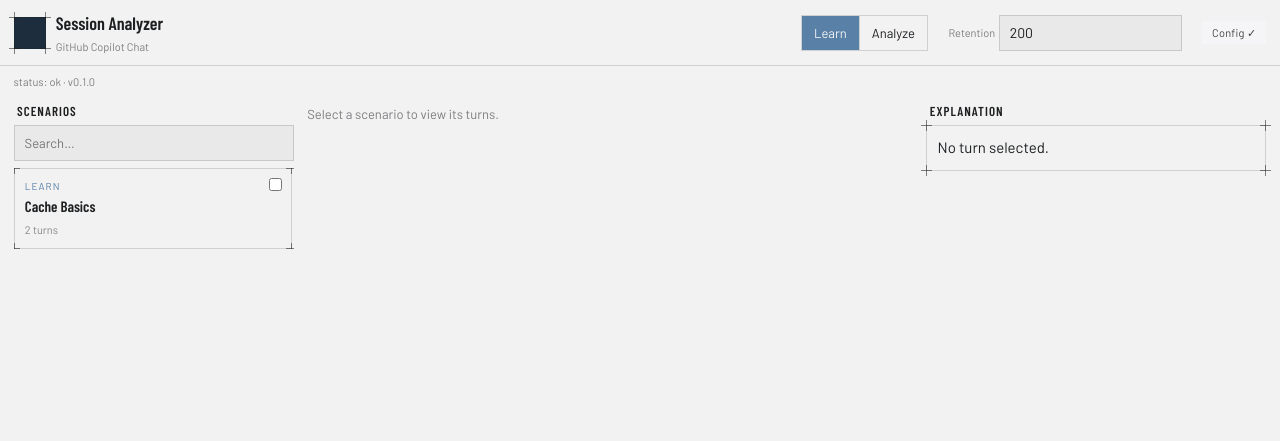
Test: App › clears the advice selection when switching modes
Click the checkbox named "Cache Basics" at coordinates (275, 184), box 269,178 -> 282,191
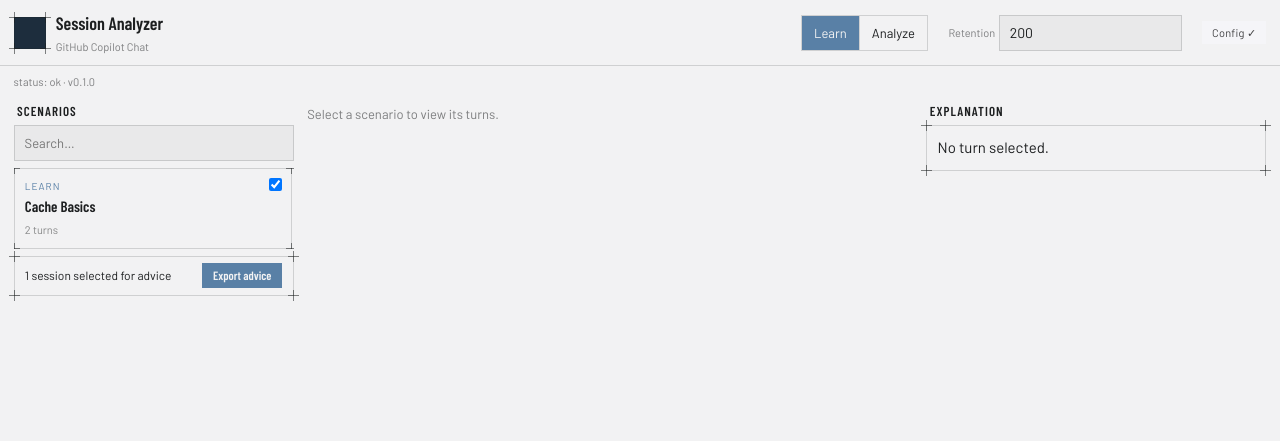
expect the text "1 session selected for advice" is shown: met, box 25,266 -> 172,285
Click the radio button labelled "Analyze" at coordinates (893, 33), box 859,16 -> 927,50
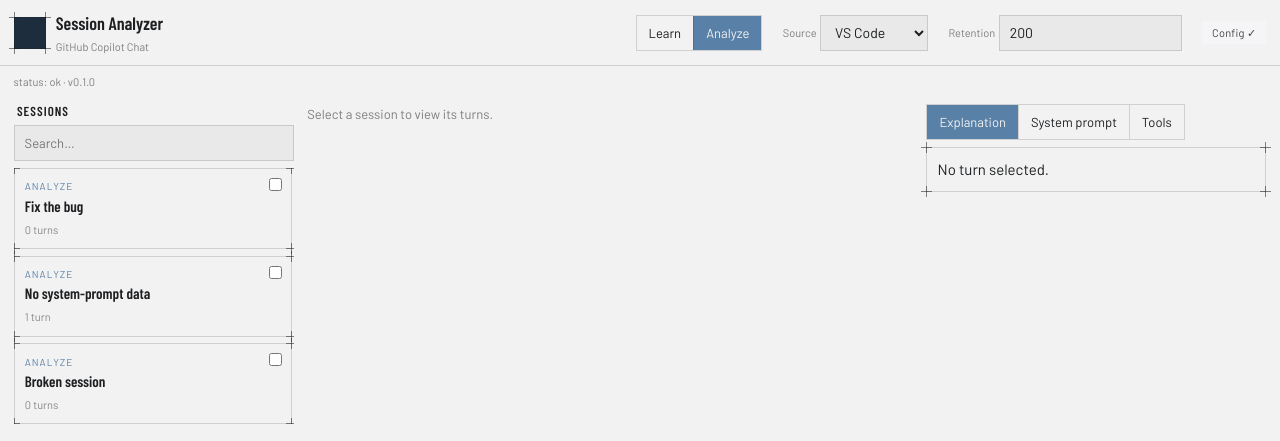
expect the button "Analyze Fix the bug 0 turns" is shown: met, box 14,168 -> 292,249
expect the text "selected for advice" is gone: met
